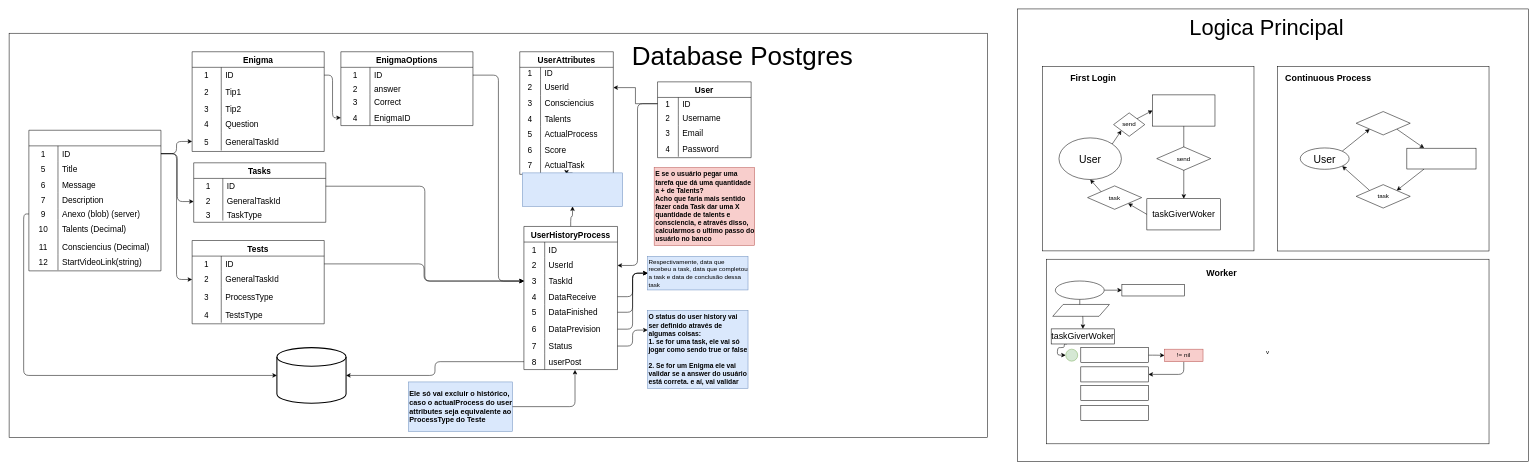
Image size: 1538x471. Some labels were removed from this diagram. Each missing label, with the centre of its shape:
Ao deletar o histórico do usuário, armazenar os atributos do usuário: (x=572, y=189)
AWS S3: (x=311, y=375)
IF: (x=1071, y=355)
lastTaskDone(user): (x=1114, y=355)
Login: (x=1183, y=110)
logMiddleware: (x=1080, y=310)
request: (x=1079, y=289)
taskcompleted: (x=1383, y=123)
taskGiverWorker: (x=1441, y=158)
userPayload: (x=1152, y=290)
